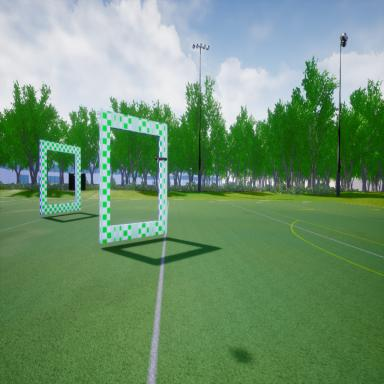gate: (97, 107, 170, 251), (38, 135, 82, 221)
